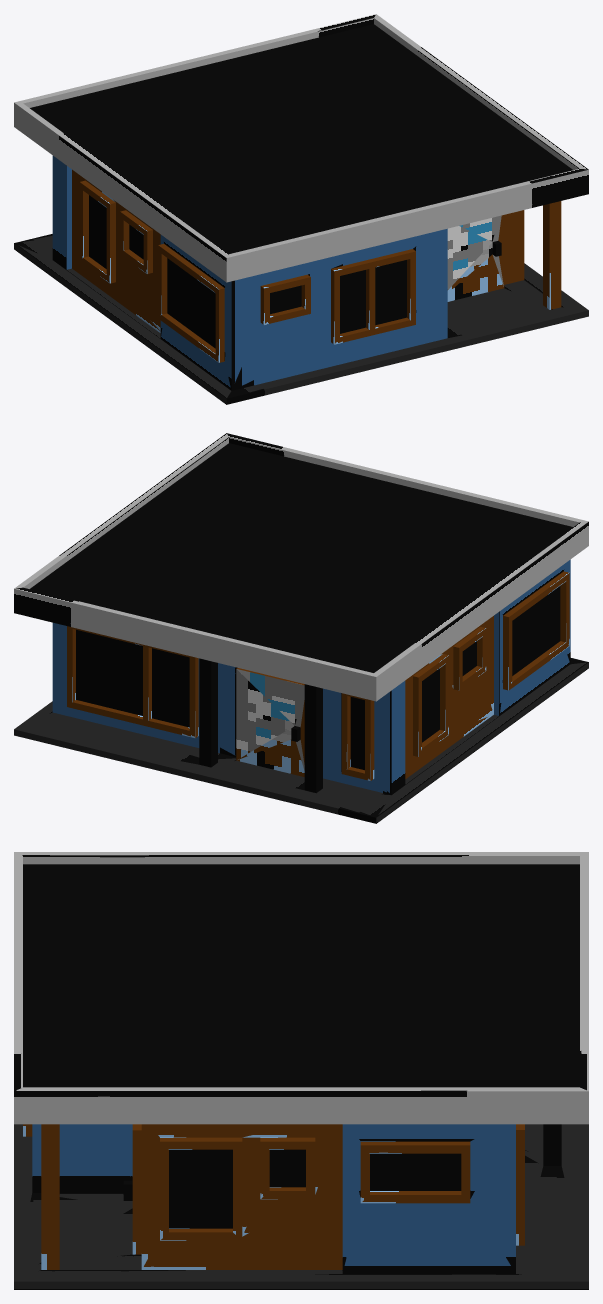
File: obj_house1a.dae
3 renders of one model, top to bottom at view 1: azimuth 30°, elevation 25°; view 2: azimuth 150°, elevation 25°; view 3: azimuth 270°, elevation 25°, orthographic. The views are drawn at different scales.
Visible parts, largest first — view 1: obj_house1a; view 2: obj_house1a; view 3: obj_house1a.
Boxes of the visible parts, x1,y1,x2,y2 form: obj_house1a: (14,14,588,404); obj_house1a: (14,433,588,823); obj_house1a: (14,852,588,1289).
Size of the model in its own units: 6.2 by 6.3 by 2.4.
Materials: 1 (1 with a texture image).
